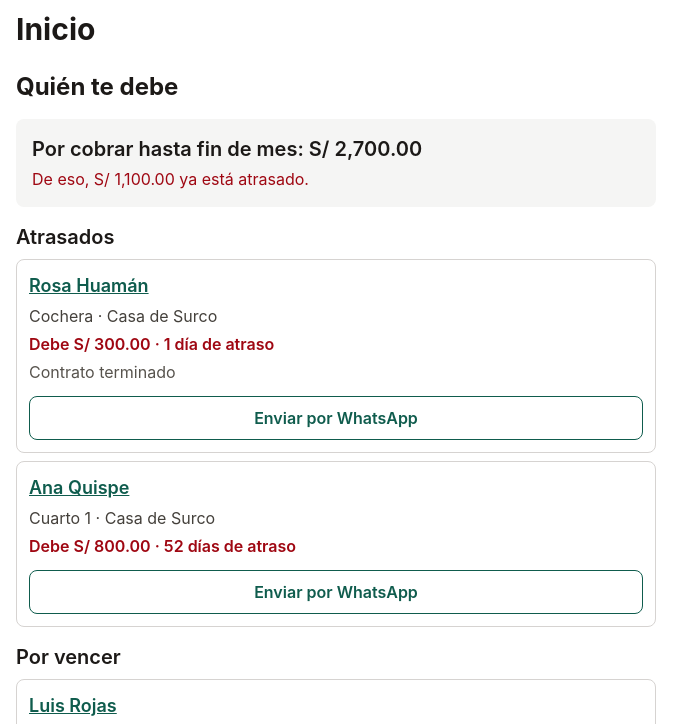
Test case: collections panel › explains why a lease can't be reminded and closes the tab it opened
Step 1. Click the button with aria-label "Enviar por WhatsApp a Ana Quispe" → (336, 592), box [29, 570, 643, 614]
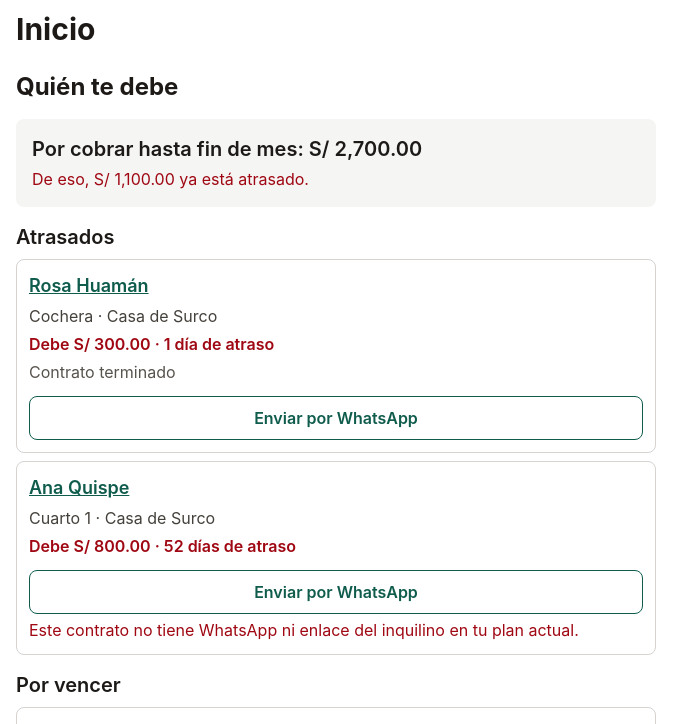
Expected: the message reads "Este contrato no tiene WhatsApp ni enlace del inquilino en tu plan actual.", [29, 620, 579, 640]
